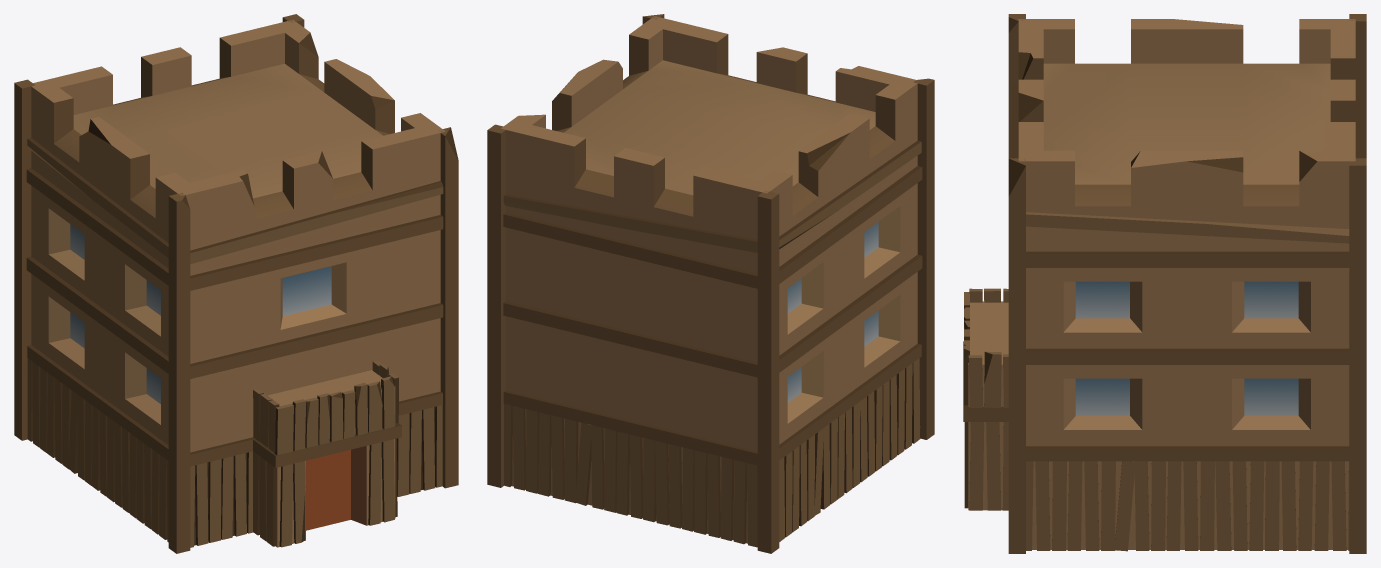
File: Level2_WoodCastle.fbx
3 views of the same model, side by side, from view 1: azimuth 30°, elevation 25°; view 2: azimuth 150°, elevation 25°; view 3: azimuth 270°, elevation 25° (orthographic). The views are drawn at different scales.
Visible parts, largest first — view 1: Cube.011; view 2: Cube.011; view 3: Cube.011.
Boxes of the visible parts, box(x1,y1,x2,y2) form: Cube.011: box(14, 14, 458, 553); Cube.011: box(487, 14, 934, 553); Cube.011: box(963, 14, 1366, 553).
Size of the model in its own units: 1173 by 1400 by 1317.
